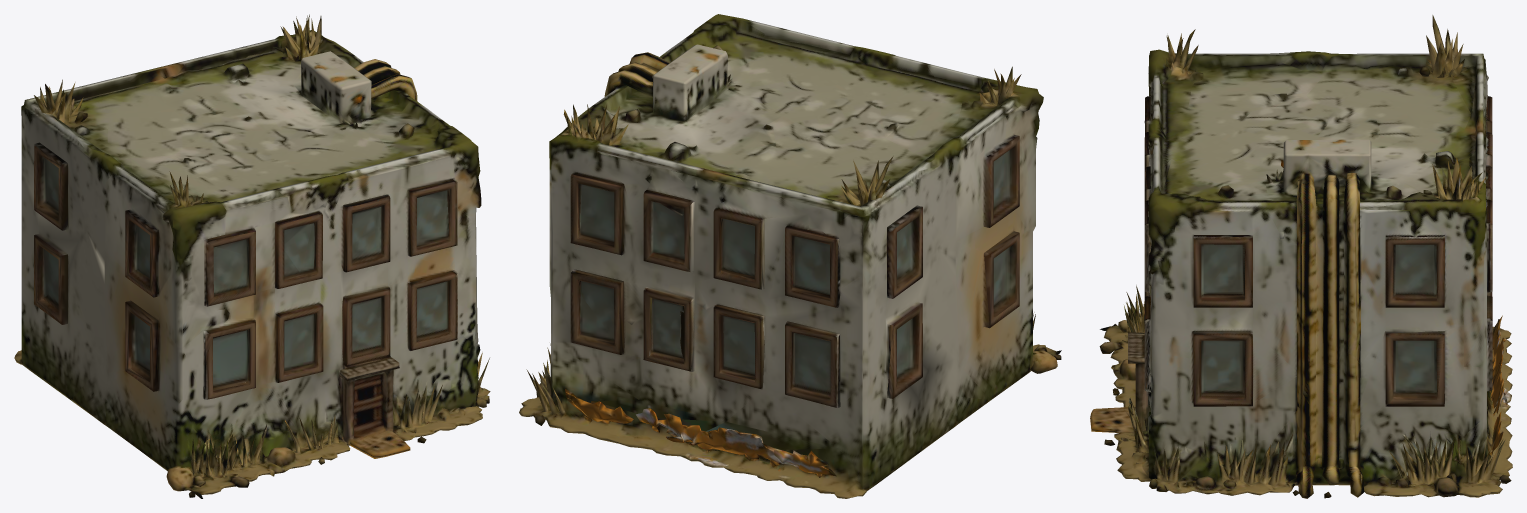
The model's file is ruina+building+3d+model.fbx.
The picture shows the model from 3 angles, left to right: view 1: azimuth 30°, elevation 25°; view 2: azimuth 150°, elevation 25°; view 3: azimuth 270°, elevation 25°; orthographic projection. The views are drawn at different scales.
Parts seen in each view (by area): view 1: tripo_node_77c4fc39; view 2: tripo_node_77c4fc39; view 3: tripo_node_77c4fc39.
Part boxes in pixels (x1,y1,x2,y2): tripo_node_77c4fc39: [14, 14, 490, 498]; tripo_node_77c4fc39: [519, 14, 1061, 498]; tripo_node_77c4fc39: [1090, 15, 1512, 498].
Size of the model in its own units: 0.9924 by 0.8297 by 0.9991.
1 material, 1 textured.
